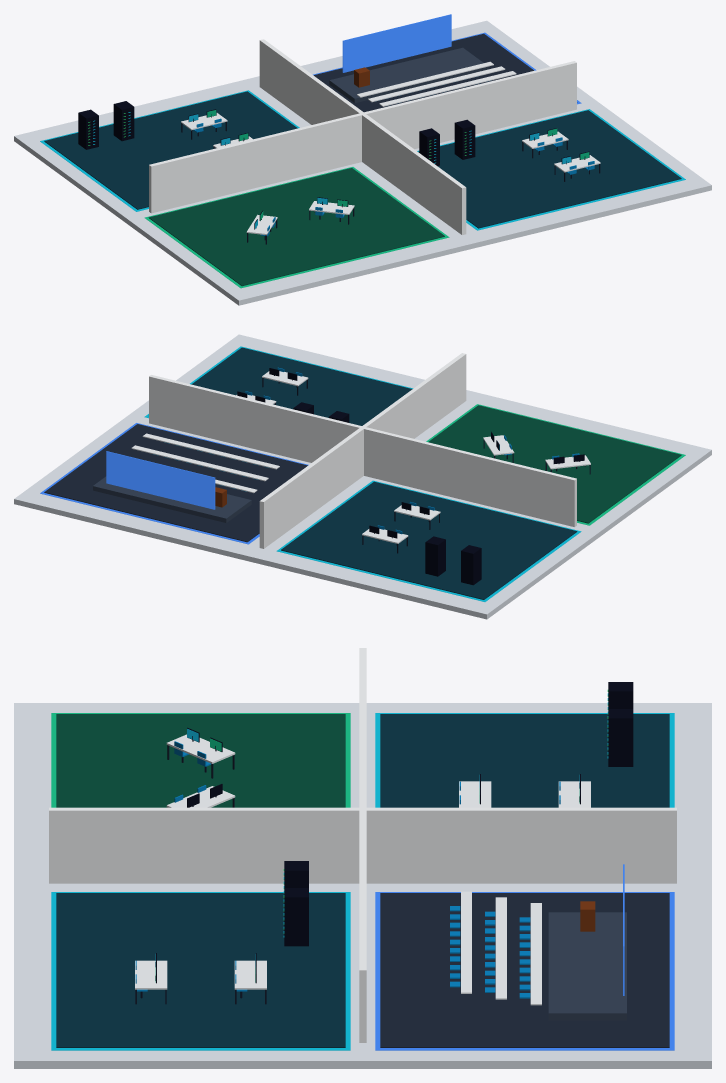
Rendered from academic_floor_1.glb.
3 views of the same model, one above another, from view 1: azimuth 30°, elevation 25°; view 2: azimuth 150°, elevation 25°; view 3: azimuth 270°, elevation 25° (orthographic). The views are drawn at different scales.
Parts seen in each view (by area): view 1: object 1, object 3, ROOM_ACAD_103, ROOM_ACAD_104, ROOM_ACAD_101, object 2, object 82, object 80, ROOM_ACAD_102, object 117, object 153, object 25 (+7 smaller); view 2: object 1, object 3, ROOM_ACAD_101, ROOM_ACAD_103, ROOM_ACAD_102, object 2, ROOM_ACAD_104, object 82, object 80, object 5, object 79, object 117 (+4 smaller); view 3: object 1, object 2, ROOM_ACAD_104, ROOM_ACAD_102, ROOM_ACAD_103, ROOM_ACAD_101, object 80, object 3, object 79, object 153, object 25, object 173 (+12 smaller).
Boxes of the visible parts, x1=… form: object 1: x1=14, y1=20, x2=711, y2=305; object 3: x1=149, y1=61, x2=576, y2=213; ROOM_ACAD_103: x1=148, y1=168, x2=444, y2=286; ROOM_ACAD_104: x1=418, y1=110, x2=681, y2=228; ROOM_ACAD_101: x1=44, y1=91, x2=297, y2=209; object 2: x1=259, y1=39, x2=466, y2=234; object 82: x1=342, y1=14, x2=451, y2=72; object 80: x1=329, y1=47, x2=488, y2=103; ROOM_ACAD_102: x1=314, y1=33, x2=577, y2=112; object 117: x1=144, y1=167, x2=449, y2=288; object 153: x1=417, y1=109, x2=685, y2=230; object 25: x1=113, y1=101, x2=134, y2=141; object 1: x1=14, y1=334, x2=711, y2=619; object 3: x1=149, y1=375, x2=576, y2=526; ROOM_ACAD_101: x1=281, y1=481, x2=577, y2=599; ROOM_ACAD_103: x1=428, y1=405, x2=681, y2=523; ROOM_ACAD_102: x1=44, y1=424, x2=307, y2=542; object 2: x1=259, y1=353, x2=466, y2=548; ROOM_ACAD_104: x1=191, y1=347, x2=412, y2=425; object 82: x1=106, y1=451, x2=215, y2=509; object 80: x1=93, y1=476, x2=251, y2=522; object 5: x1=276, y1=480, x2=581, y2=601; object 79: x1=40, y1=423, x2=308, y2=544; object 117: x1=426, y1=404, x2=685, y2=525; object 1: x1=14, y1=703, x2=711, y2=1068; object 2: x1=49, y1=807, x2=676, y2=883; ROOM_ACAD_104: x1=56, y1=893, x2=345, y2=1047; ROOM_ACAD_102: x1=380, y1=893, x2=669, y2=1047; ROOM_ACAD_103: x1=56, y1=714, x2=345, y2=807; ROOM_ACAD_101: x1=380, y1=714, x2=669, y2=807; object 80: x1=548, y1=912, x2=626, y2=1020; object 3: x1=359, y1=648, x2=366, y2=1042; object 79: x1=375, y1=892, x2=674, y2=1050; object 153: x1=51, y1=892, x2=350, y2=1050; object 25: x1=608, y1=709, x2=633, y2=766; object 173: x1=284, y1=888, x2=308, y2=946.
Size of the model in its own units: 34 by 3.57 by 28.
